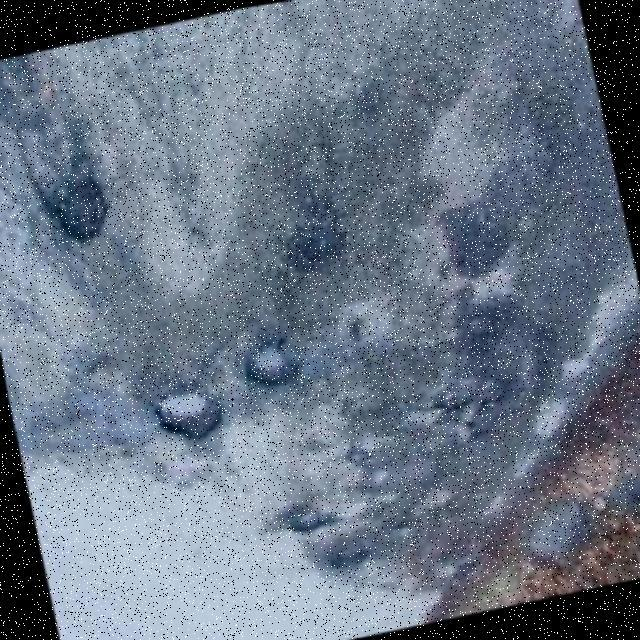Pothole: (57, 159, 110, 239), (155, 381, 223, 441), (430, 378, 505, 422), (249, 338, 300, 384), (284, 507, 337, 534)
